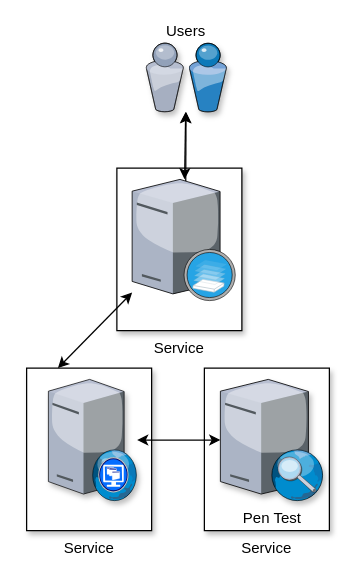
Some shapes in this 360 by 578 pixel diagram are drawn without their labels. Each missing label, with the centre of its shape:
"Ansible" goes at (93,441).
"Load Balancer" goes at (183,239).
